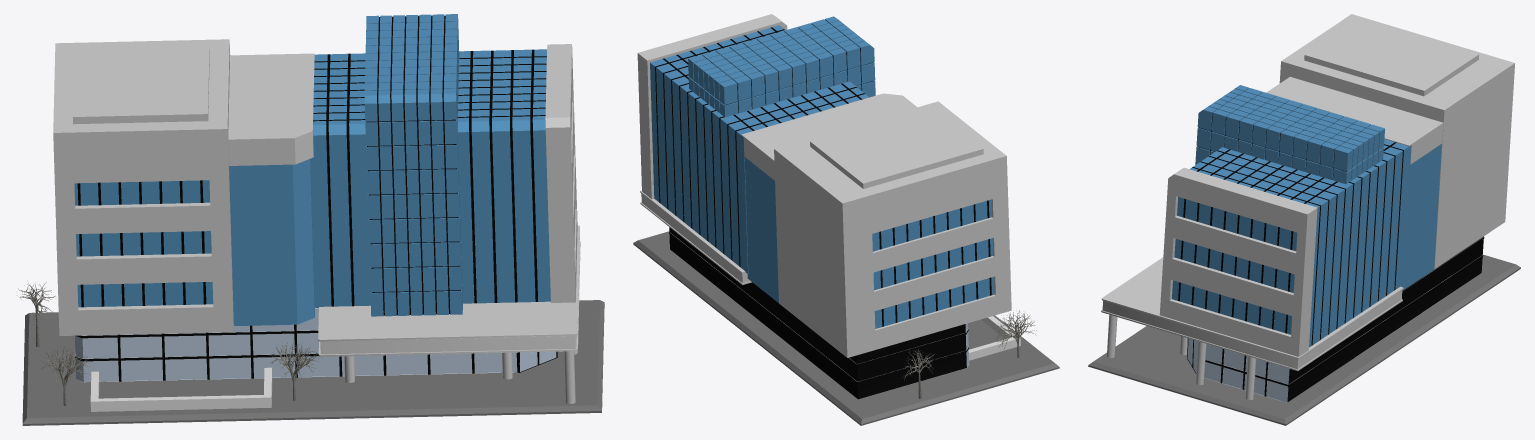
Rendered from durst.glb.
The picture shows the model from 3 angles, left to right: view 1: azimuth 30°, elevation 25°; view 2: azimuth 150°, elevation 25°; view 3: azimuth 270°, elevation 25°; orthographic projection. The views are drawn at different scales.
Parts seen in each view (by area): view 1: Cube.003; view 2: Cube.003; view 3: Cube.003.
Part boxes in pixels (x1=…): Cube.003: x1=17, y1=14, x2=604, y2=425; Cube.003: x1=633, y1=14, x2=1059, y2=425; Cube.003: x1=1088, y1=14, x2=1520, y2=425.
Bounding box in the file's own units: 1 × 0.5342 × 0.838.
6 materials, 1 textured.
